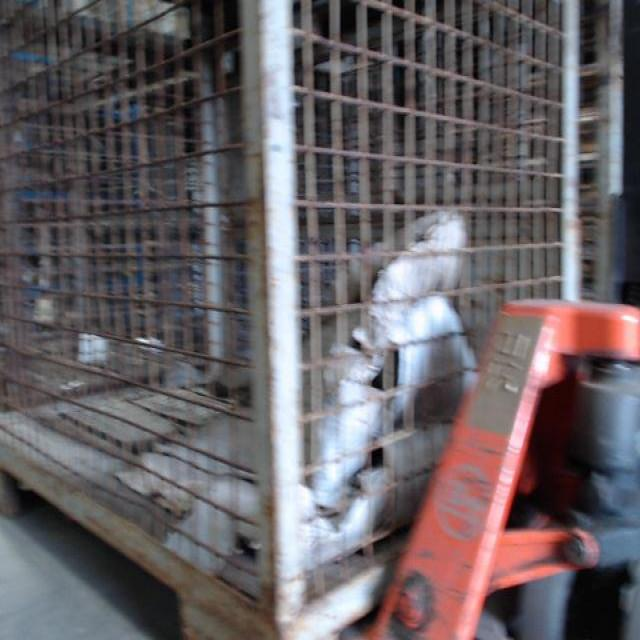pallet_truck: (340, 243, 639, 640)
stillage: (1, 4, 586, 638), (568, 1, 636, 354)
